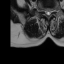CCS_normal: (47, 7, 49, 18)
LFS_normal: (51, 6, 54, 14)
LLS_normal: (49, 7, 51, 17)
RFS_stenosis: (42, 6, 45, 14)
RLS_normal: (45, 7, 47, 16)
